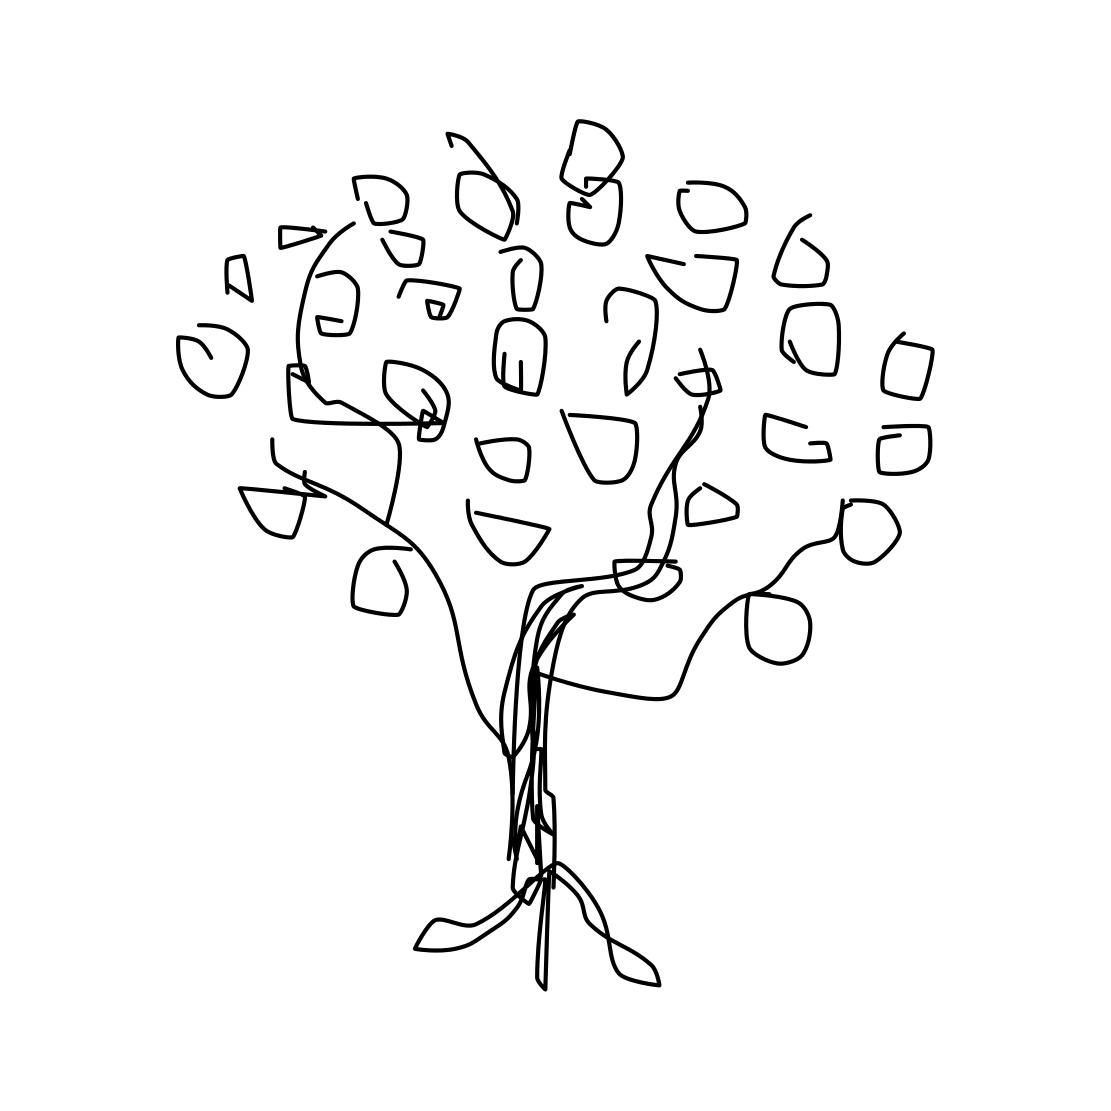Tree: (153, 102, 962, 989)
